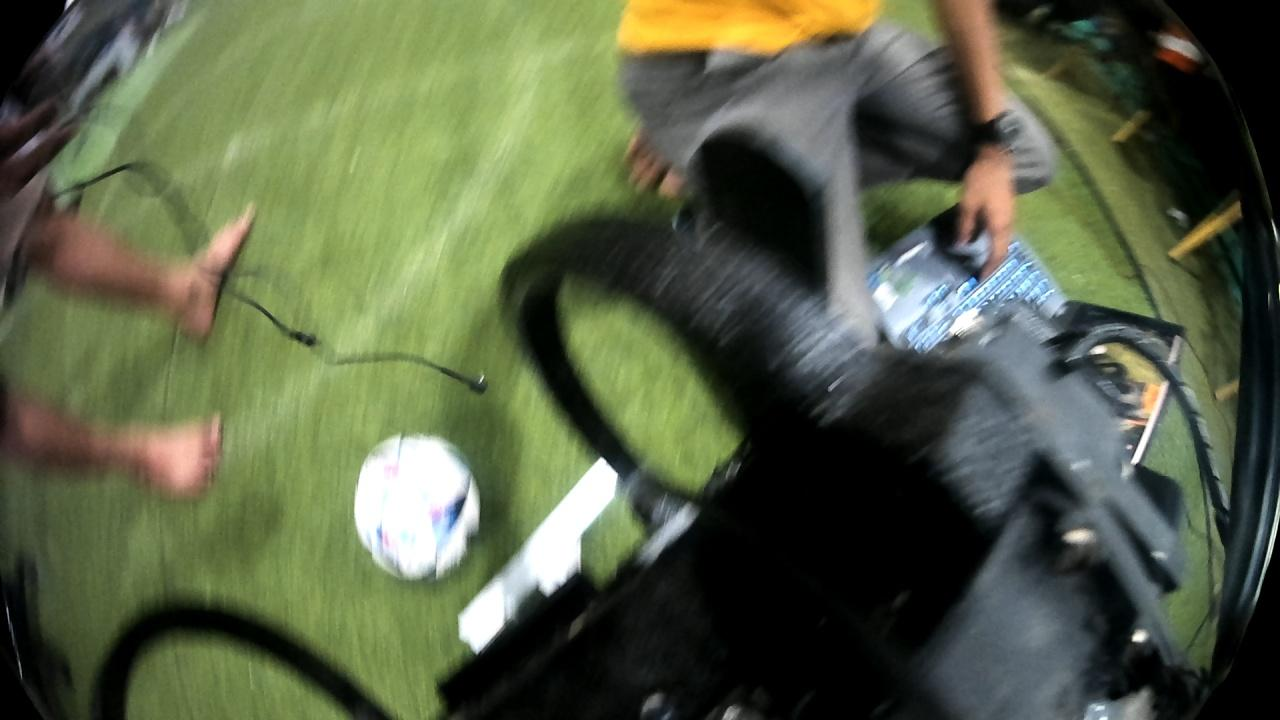ball: (352, 427, 484, 586)
